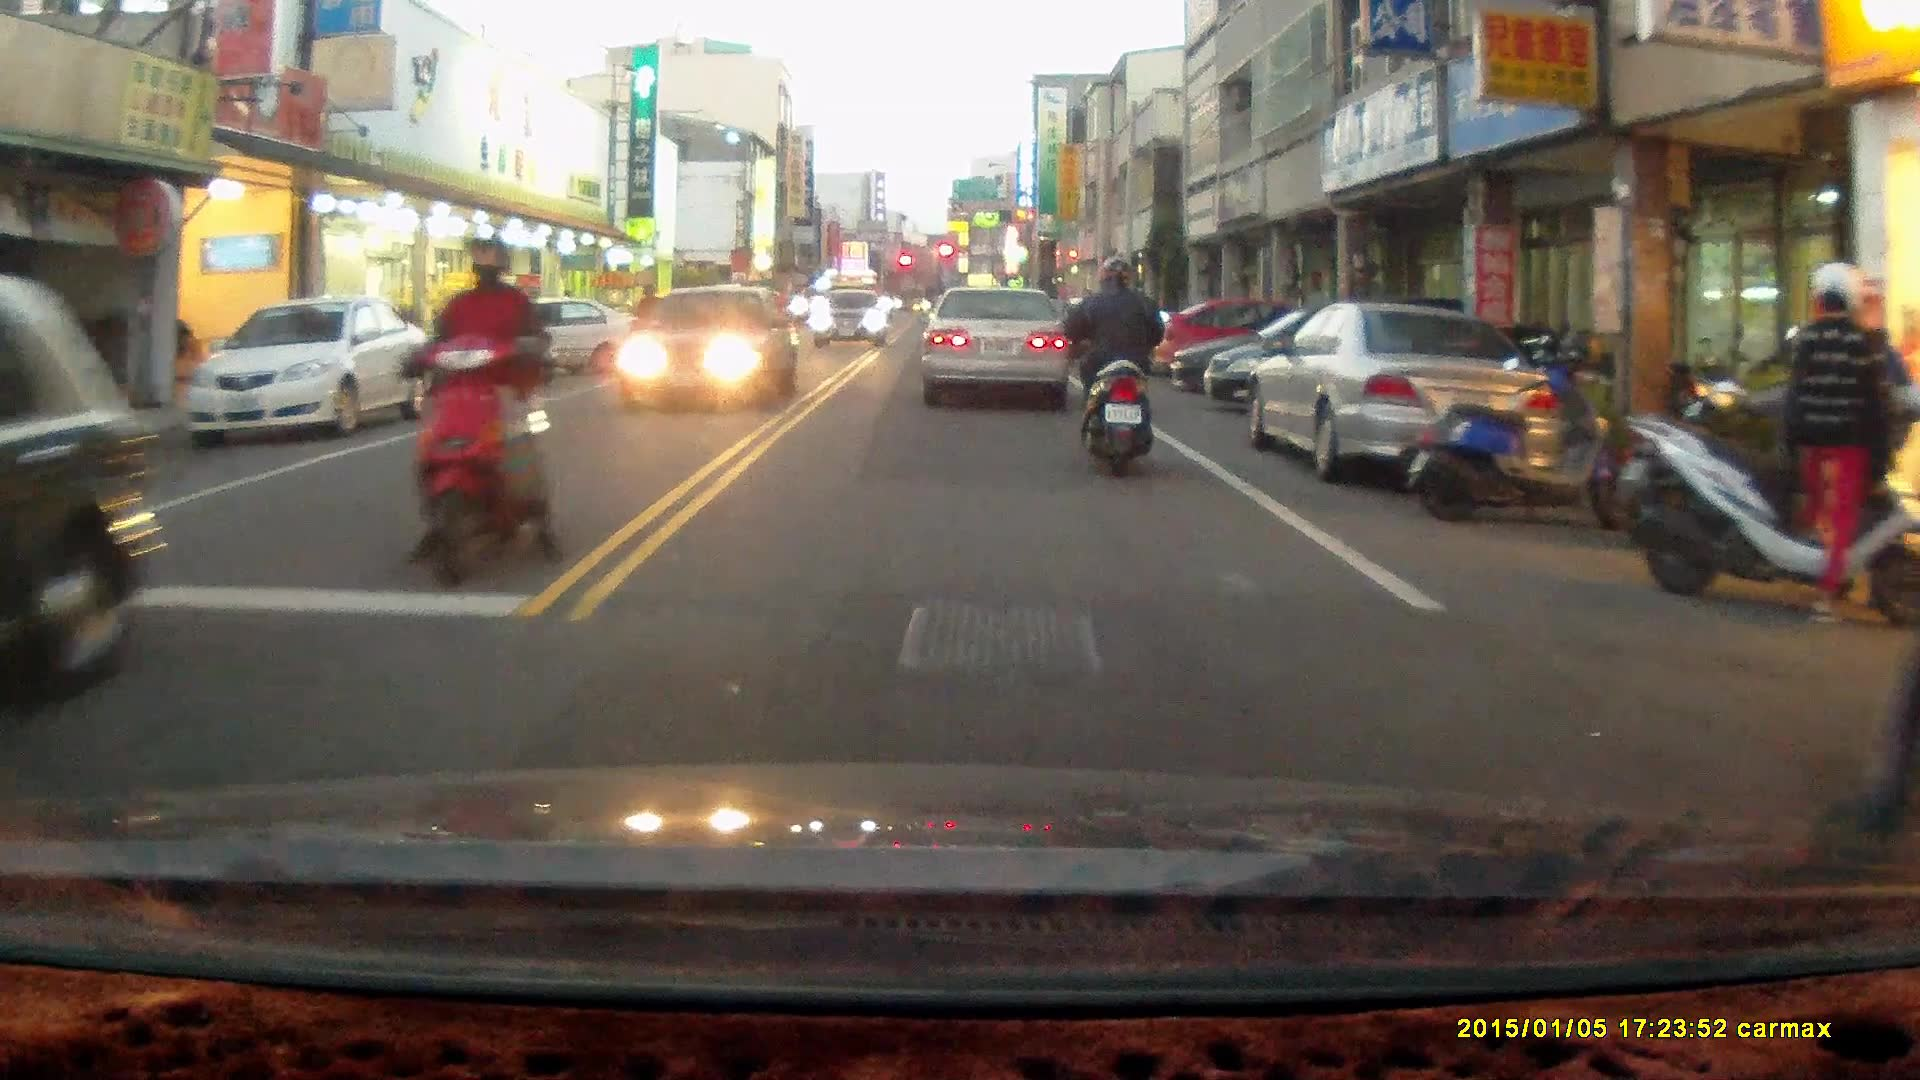pedestrian: (1788, 259, 1888, 624), (632, 282, 663, 351)
rider: (391, 235, 566, 588), (1055, 254, 1170, 478)
vehicle: (1, 305, 163, 709), (1237, 298, 1562, 484), (179, 288, 434, 444), (1176, 308, 1438, 402), (619, 280, 797, 409), (1150, 294, 1371, 380), (916, 286, 1072, 408), (810, 284, 889, 346)
